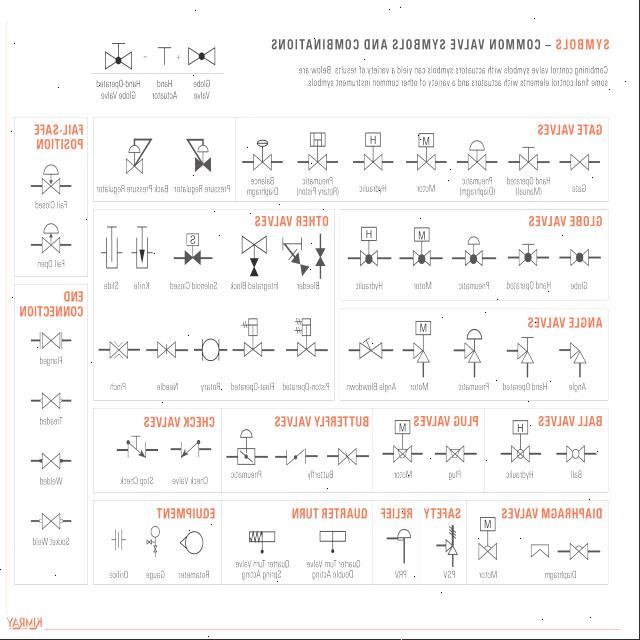Angle Blowdown: (350, 327, 393, 373)
Angle Valve: (564, 338, 596, 372)
BackPressure Regulator: (120, 129, 160, 175)
Balance Diaphragm Gate Valve: (252, 132, 278, 174)
Ball Valve: (558, 438, 596, 470)
Bleeder Valve: (280, 238, 316, 278), (314, 237, 334, 281)
Butterfly Valve: (282, 438, 314, 470), (334, 444, 362, 468)
Check Valve: (177, 432, 206, 467)
Diaphragm Valve: (522, 539, 557, 568), (566, 539, 602, 561)
Fail Closed Safe Position: (30, 158, 80, 198)
Fail Open Safe Position: (37, 217, 70, 260)
Float Operated Valve: (234, 312, 276, 364)
Gate Valve: (569, 152, 592, 174)
Gauge: (144, 522, 170, 564)
Globe Valve: (564, 242, 595, 270)
Hand Operated Angle Valve: (508, 330, 542, 374)
Hand Operated Gate Valve: (514, 140, 550, 173)
Hand Operated Globe Valve: (510, 236, 552, 270)
Hydraulic Operated Ball Valve: (509, 415, 538, 468)
Hydraulic Operated Gate Valve: (362, 130, 389, 174)
Hydraulic Operated Globe Valve: (354, 220, 389, 274)
Integrated Block Valve: (238, 228, 272, 280)
Knife Valve: (130, 223, 164, 274)
Motor Operated Angle Valve: (406, 318, 442, 376)
Motor Operated Diaphragm Valve: (478, 516, 496, 566)
Motor Operated Gate Valve: (414, 130, 444, 178)
Motor Operated Globe Valve: (403, 220, 440, 272)
Motor Operated Plug Valve: (388, 420, 416, 469)
Needle Valve: (154, 332, 183, 368)
Orifice: (109, 518, 133, 560)
PRV: (387, 526, 415, 568)
PSV: (442, 525, 460, 565)
Pinch Valve: (103, 336, 139, 366)
Piston Operated Valve: (289, 312, 329, 363)
Plug Valve: (440, 436, 470, 468)
Pneumatic-Diaphragm Angle Valve: (458, 324, 490, 376)
Pneumatic-Diaphragm Butterfly Valve: (238, 424, 258, 468)
Pneumatic-Diaphragm Gate Valve: (464, 136, 495, 174)
Pneumatic-Diaphragm Globe Valve: (456, 220, 498, 274)
Pressure Regulator: (182, 130, 218, 176)
Quarter Turn Valve Double Acting: (314, 522, 348, 562)
Quarter Turn Valve Spring Acting: (243, 521, 285, 558)
Rotameter: (176, 529, 211, 563)
Rotary Piston-Pneumatic Gate Valve: (306, 128, 334, 174)
Rotary Valve: (190, 324, 232, 368)
Slide Valve: (98, 220, 126, 278)
Solenoid Operated Gate Valve: (170, 227, 216, 269)
Stop Valve: (122, 434, 154, 461)
